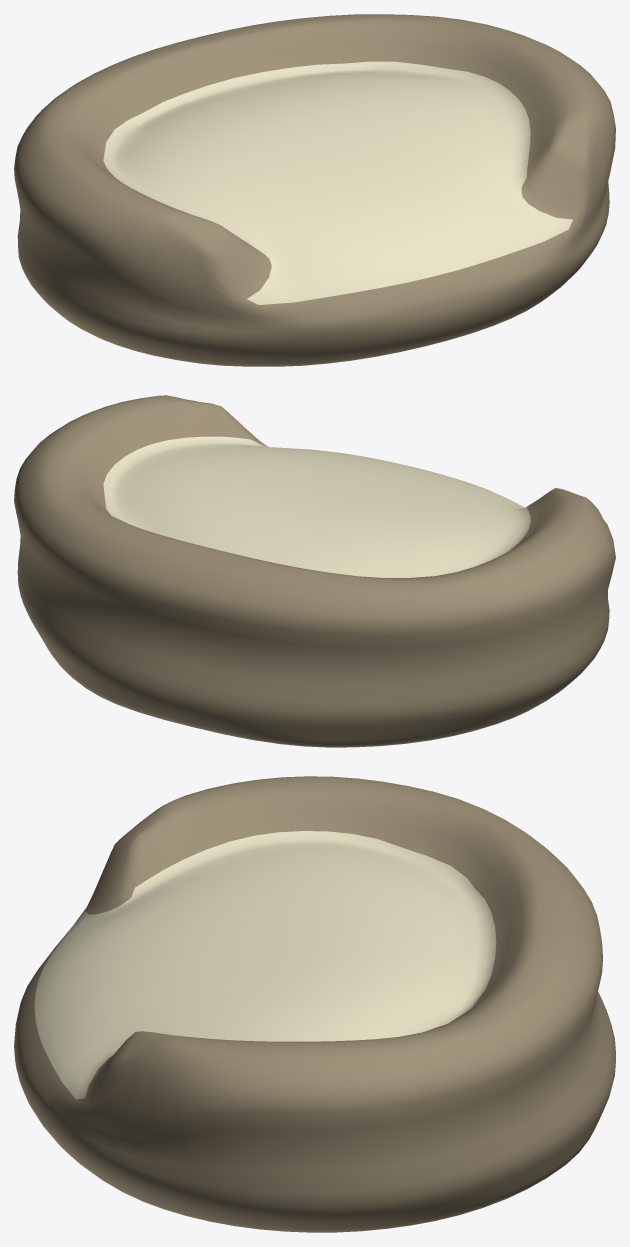
The model's file is koiranpeti.fbx.
3 views of the same model, one above another, from view 1: azimuth 30°, elevation 25°; view 2: azimuth 150°, elevation 25°; view 3: azimuth 270°, elevation 25° (orthographic). The views are drawn at different scales.
Visible parts, largest first — view 1: koiranpeti; view 2: koiranpeti; view 3: koiranpeti.
Part boxes in pixels (left/top/right/bottom): koiranpeti: left=14, top=14, right=615, bottom=366; koiranpeti: left=14, top=395, right=615, bottom=747; koiranpeti: left=14, top=776, right=615, bottom=1232.
Size of the model in its own units: 131 by 36.87 by 107.
